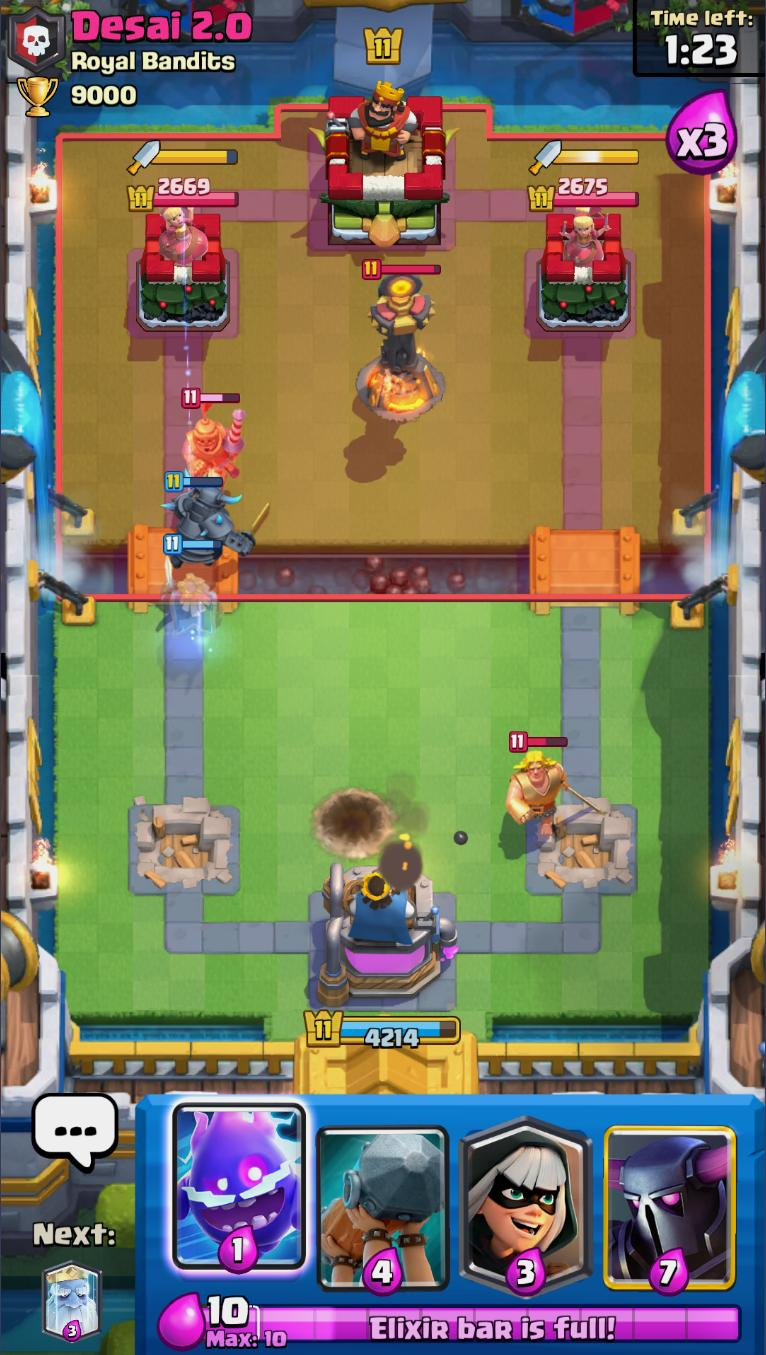BanditDeck: (455, 1095, 600, 1295)
BattleRamDeck: (310, 1094, 456, 1295)
DaggerDuchess: (559, 208, 613, 268), (158, 208, 210, 265)
Daggers: (127, 139, 240, 175), (530, 140, 642, 176)
ElectroSpiritDeck: (168, 1094, 311, 1295)
Elixir: (200, 1296, 745, 1350)
EnemyTower: (536, 209, 633, 333), (136, 207, 231, 332)
GoldenKnight: (507, 695, 612, 808)
Inferno: (350, 260, 450, 425)
KingTower: (310, 81, 461, 249)
MyKingHP: (304, 1010, 463, 1049)
MyKingTower: (314, 855, 460, 1007)
MyPekka: (164, 466, 271, 570)
MyPrincessTowerBrocken: (524, 800, 640, 898), (129, 801, 243, 896)
MyRoyaleGhost: (161, 536, 228, 646)
PekkaDeck: (600, 1095, 740, 1295)
Prince: (179, 386, 248, 481)
RoyaleGhostNext: (40, 1264, 105, 1341)
TowerPrincessHP: (127, 178, 240, 212), (529, 179, 641, 211)
